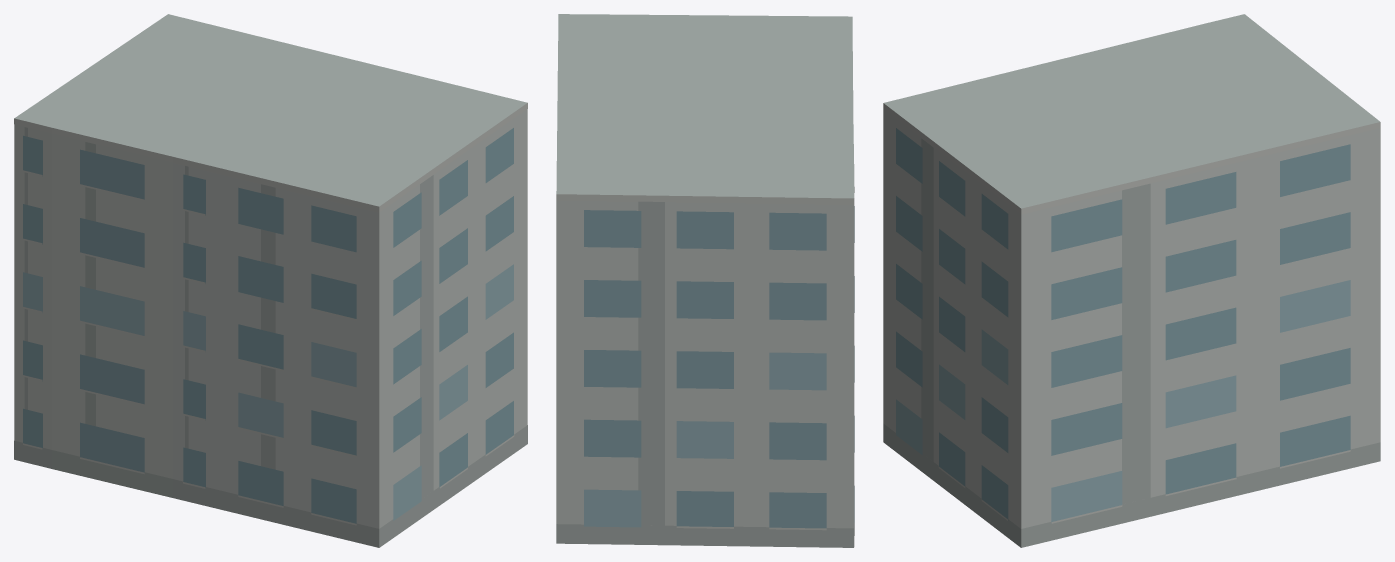
Rendered from survey-upis-32825361.glb.
3 renders of one model, left to right at view 1: azimuth 30°, elevation 25°; view 2: azimuth 150°, elevation 25°; view 3: azimuth 270°, elevation 25°, orthographic. The views are drawn at different scales.
Parts seen in each view (by area): view 1: survey-upis-32825361.tmp; view 2: survey-upis-32825361.tmp; view 3: survey-upis-32825361.tmp.
Boxes of the visible parts, x1,y1,x2,y2 form: survey-upis-32825361.tmp: [14, 14, 527, 547]; survey-upis-32825361.tmp: [556, 14, 854, 547]; survey-upis-32825361.tmp: [883, 14, 1380, 547].
Bounding box in the file's own units: 16.74 × 13.6 × 18.07.
